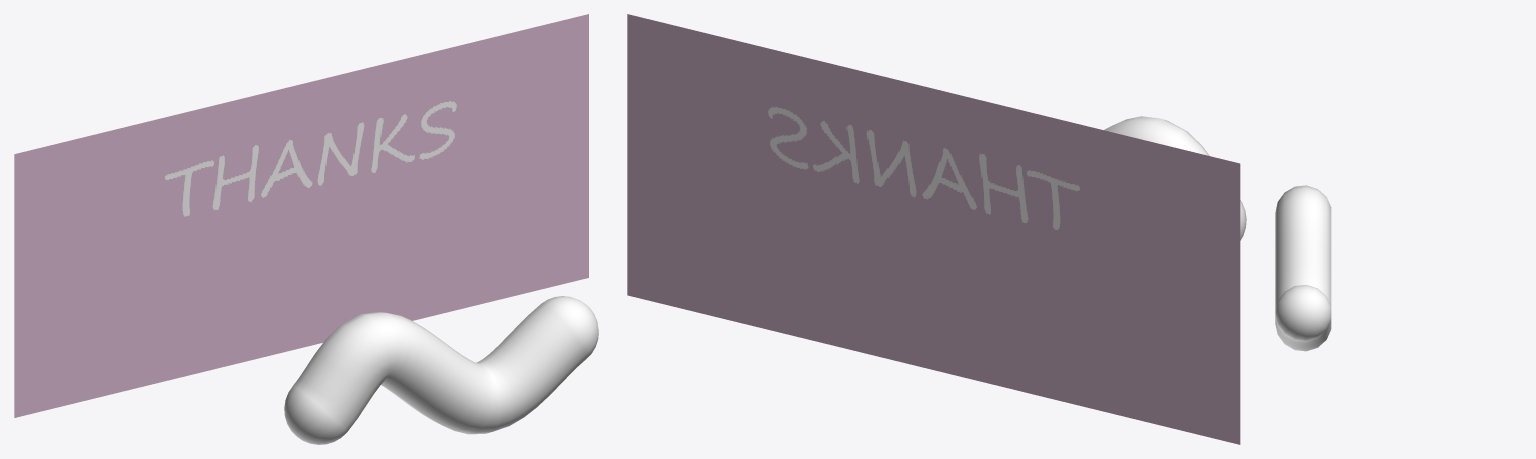
Rendered from mnget.glb.
3 renders of one model, left to right at view 1: azimuth 30°, elevation 25°; view 2: azimuth 150°, elevation 25°; view 3: azimuth 270°, elevation 25°, orthographic. The views are drawn at different scales.
Visible parts, largest first — view 1: mesh_id1, mesh_id39; view 2: mesh_id1, mesh_id39; view 3: mesh_id39.
Part boxes in pixels (x1=…): mesh_id1: x1=14, y1=14, x2=588, y2=417; mesh_id39: x1=284, y1=296, x2=598, y2=444; mesh_id1: x1=627, y1=14, x2=1240, y2=444; mesh_id39: x1=1104, y1=116, x2=1246, y2=240; mesh_id39: x1=1275, y1=185, x2=1331, y2=351.
Bounding box in the file's own units: 0.554 × 0.243 × 0.26.
Materials: 2 (2 with a texture image).
